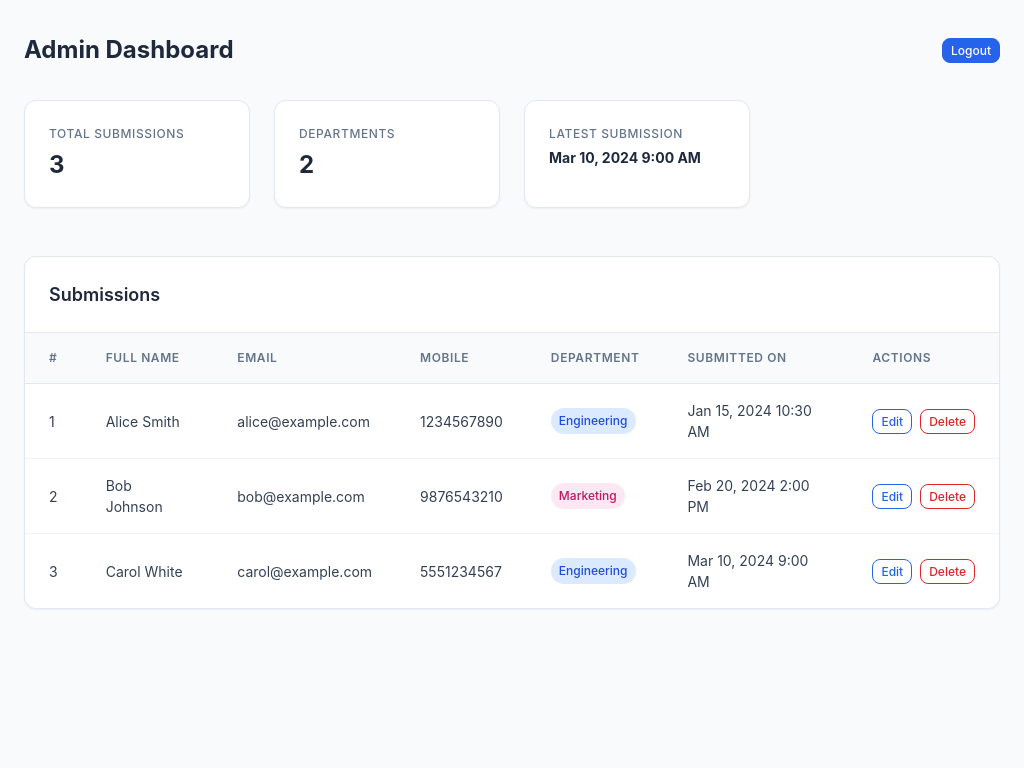
it: AdminDashboard › edit button opens modal › closes the edit modal when close button is clicked
This screenshot has width=1024, height=768.
Click the button "Edit" in the row of "Alice Smith" at point(892, 421), box top-left (872, 408), bottom-right (912, 434)
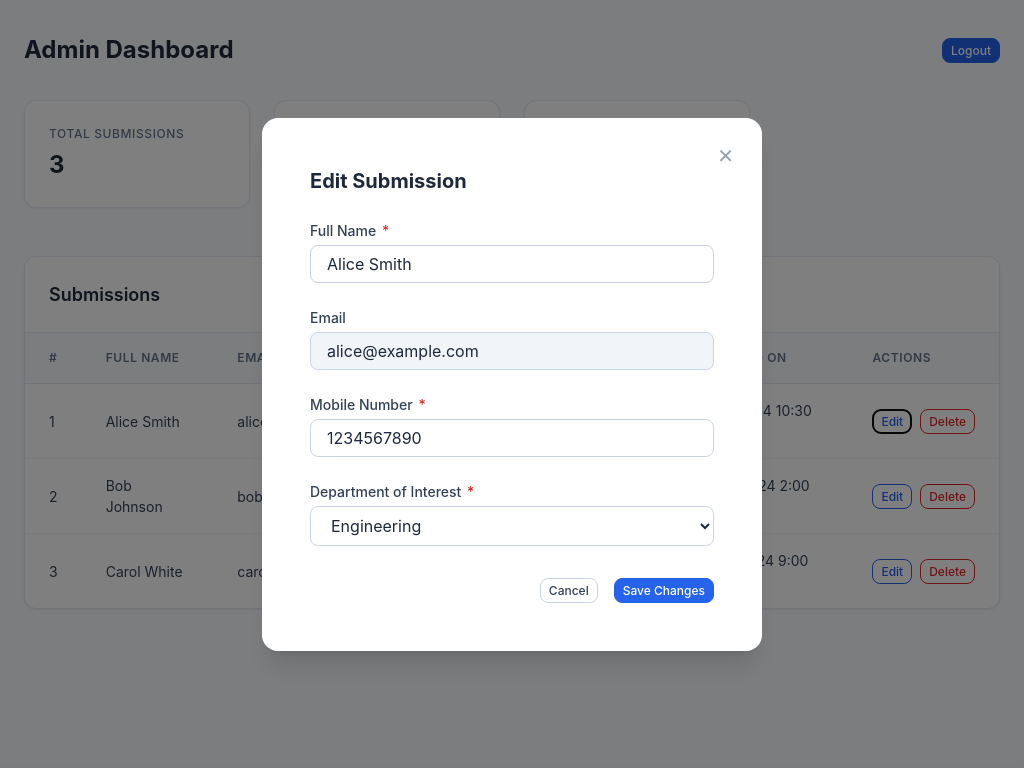
Check: the heading "Edit Submission" is shown, box top-left (310, 168), bottom-right (467, 192)
Click the button named "Close modal" at point(726, 156), box top-left (713, 142), bottom-right (738, 170)
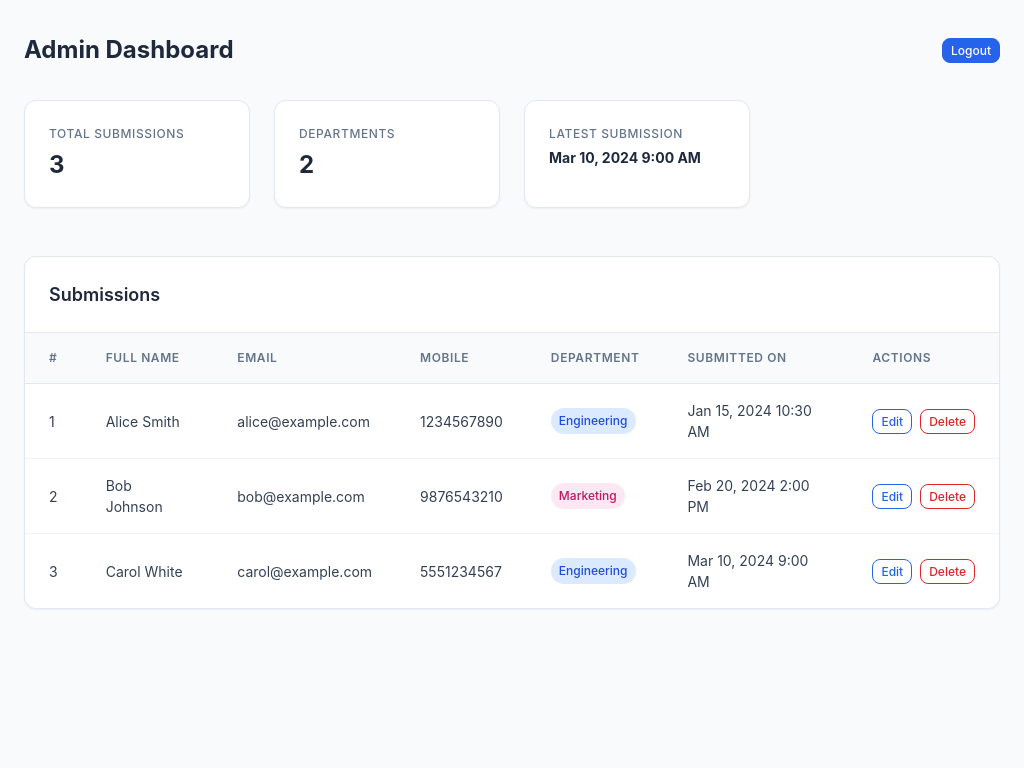
Check: the heading "Edit Submission" is gone
